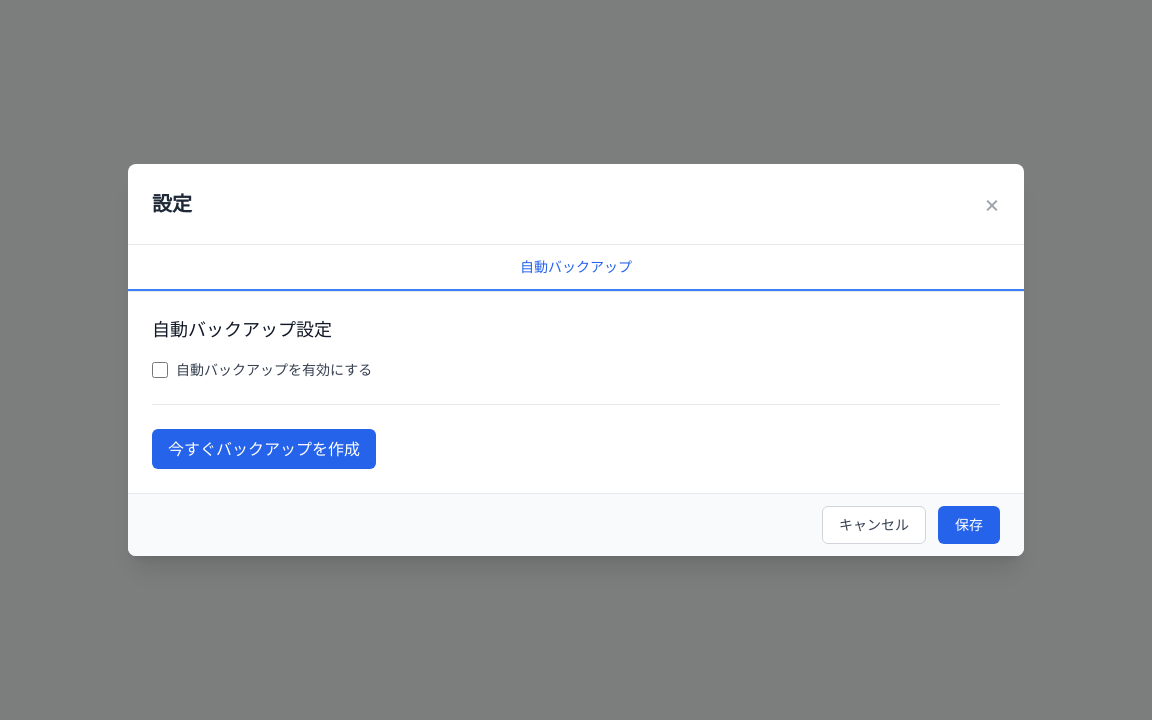
Scenario: SettingsModal Component › 自動バックアップ設定 › 自動バックアップを有効にした場合、詳細設定が表示されること
Expected: the heading "自動バックアップ設定" is shown, [152,319,332,340]
Click the checkbox labelled "自動バックアップを有効にする".
click(160, 370)  # box [152,362,168,378]
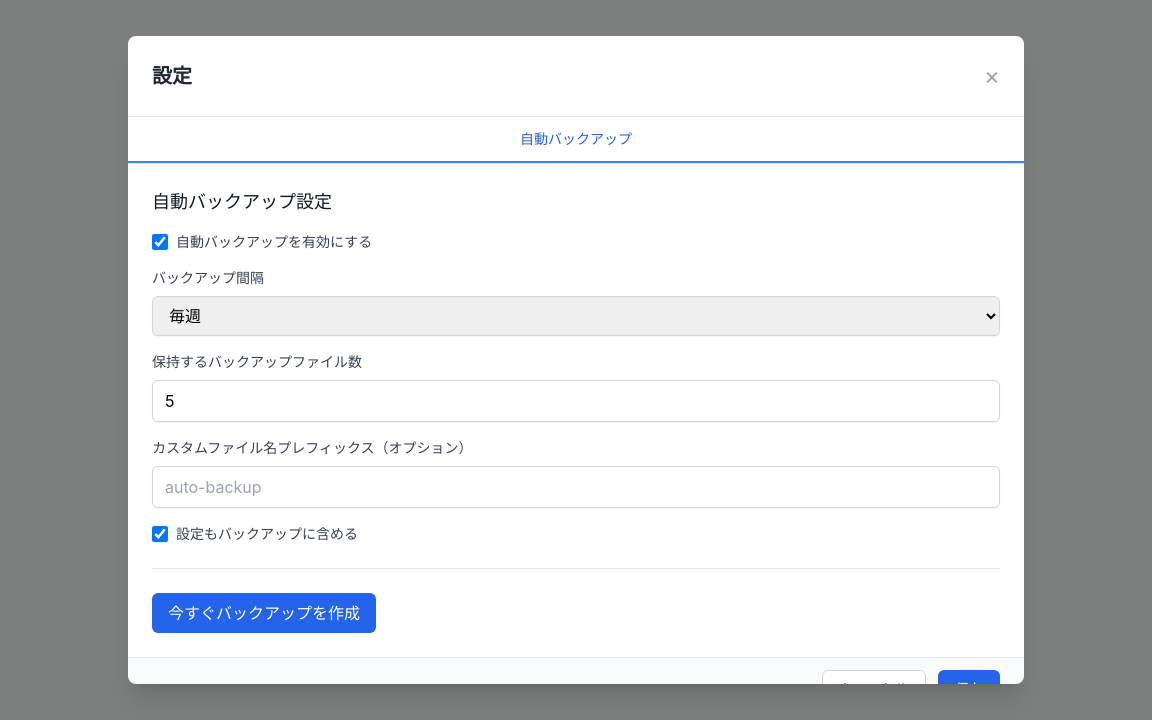
Expected: the text "バックアップ間隔" is shown, [152,269,264,286]
Expected: the text "保持するバックアップファイル数" is shown, [152,353,362,370]
